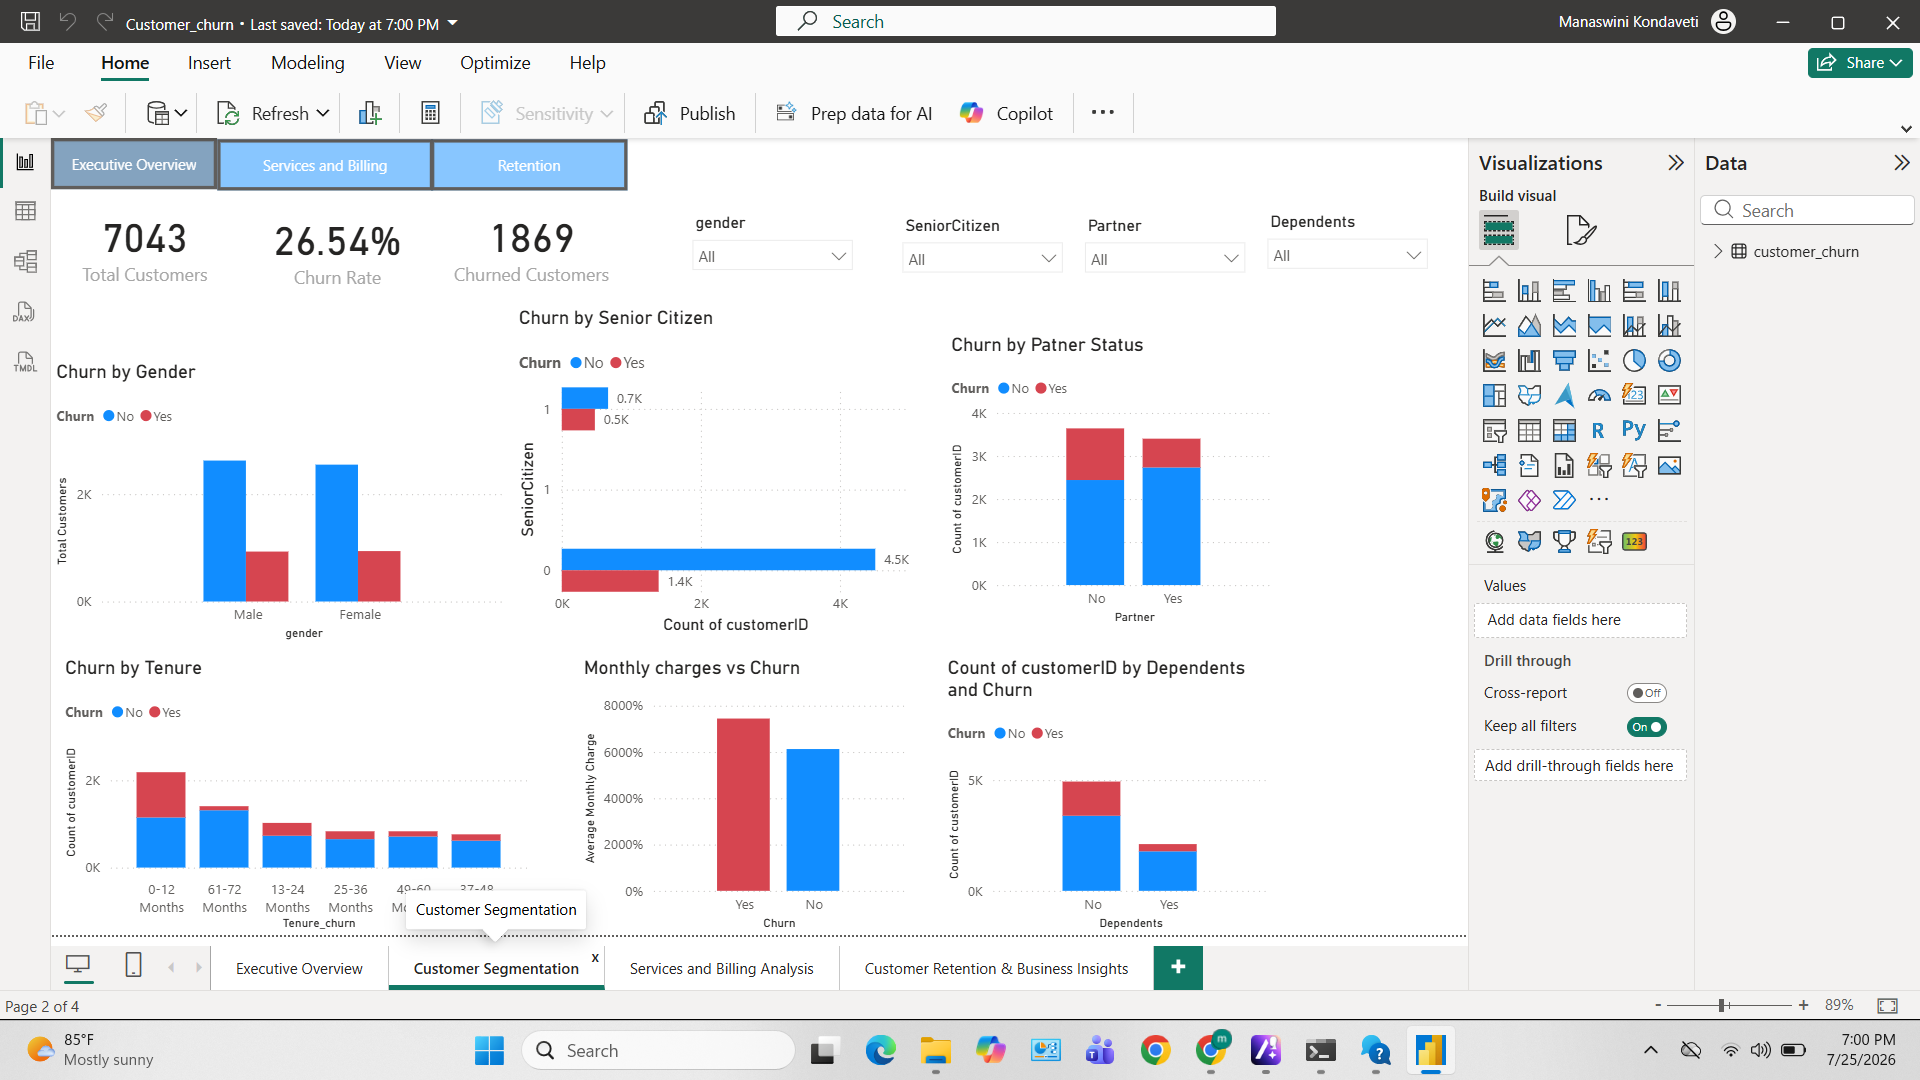

The dashboard page shown, as its layout file describes it:
{"tool":"powerbi","page":{"name":"Customer Segmentation","canvas":[1280,720],"ordinal":1},"visuals":[{"type":"PBI_CV_7B952816_A48F_49B4_9E13_15E3BB2C0337","fields":{"Values":["customer_churn.Total Customers"]},"box":[0,63.8,170,76.2],"z":0},{"type":"PBI_CV_7B952816_A48F_49B4_9E13_15E3BB2C0337","fields":{"Values":["customer_churn.Churn Rate"]},"box":[170,65,177.5,76.2],"z":1000},{"type":"clusteredColumnChart","title":"Churn by Gender","fields":{"Category":["customer_churn.gender"],"Series":["customer_churn.Churn"],"Y":["customer_churn.Total Customers"]},"box":[0,201.2,416.2,257.5],"z":2000},{"type":"PBI_CV_7B952816_A48F_49B4_9E13_15E3BB2C0337","fields":{"Values":["customer_churn.Churned Customers"]},"box":[347.5,63.8,173.8,76.2],"z":3000},{"type":"clusteredBarChart","title":"Churn by Senior Citizen","fields":{"Category":["customer_churn.SeniorCitizen"],"Series":["customer_churn.Churn"],"Y":["CountNonNull(customer_churn.customerID)"]},"box":[417.5,152.5,370,300],"z":4000},{"type":"columnChart","title":"Churn by Patner Status","fields":{"Category":["customer_churn.Partner"],"Series":["customer_churn.Churn"],"Y":["CountNonNull(customer_churn.customerID)"]},"box":[808.8,176.2,300,267.5],"z":5000},{"type":"columnChart","title":"Churn by Tenure","fields":{"Category":["customer_churn.Tenure_churn"],"Series":["customer_churn.Churn"],"Y":["CountNonNull(customer_churn.customerID)"]},"box":[7.5,468.8,427.5,251.2],"z":6000},{"type":"columnChart","title":"Monthly charges vs Churn","fields":{"Category":["customer_churn.Churn"],"Y":["customer_churn.Average Monthly Charge"]},"box":[476.2,468.8,300,251.2],"z":7000},{"type":"columnChart","fields":{"Category":["customer_churn.Dependents"],"Series":["customer_churn.Churn"],"Y":["CountNonNull(customer_churn.customerID)"]},"box":[805,468.8,300,251.2],"z":8000},{"type":"slicer","fields":{"Values":["customer_churn.gender"]},"box":[568.8,63.8,165,72.5],"z":9000},{"type":"slicer","fields":{"Values":["customer_churn.SeniorCitizen"]},"box":[758.8,65,165,76.2],"z":10000},{"type":"slicer","fields":{"Values":["customer_churn.Partner"]},"box":[923.8,65,165,73.8],"z":11000},{"type":"slicer","fields":{"Values":["customer_churn.Dependents"]},"box":[1088.8,62.5,165,73.8],"z":12000},{"type":"actionButton","title":"Executive Overview","box":[0,0,150,46.2],"z":13000},{"type":"actionButton","title":"Service and Bill","box":[343.8,1.2,177.5,46.2],"z":14000},{"type":"actionButton","title":"Service and Bill","box":[150,1.2,195,46.2],"z":15000}]}

Visuals, with their boxes on the page's 1280x720 design canvas (x1, y1, x2, y2). These are canvas units, not pixel positions in the 1920x1080 screenshot, which may show the page scaled, cropped or inside an application window:
PBI_CV_7B952816_A48F_49B4_9E13_15E3BB2C0337 - customer_churn.Total Customers: <box>0,64,170,140</box>
PBI_CV_7B952816_A48F_49B4_9E13_15E3BB2C0337 - customer_churn.Churn Rate: <box>170,65,348,141</box>
"Churn by Gender" clusteredColumnChart: <box>0,201,416,459</box>
PBI_CV_7B952816_A48F_49B4_9E13_15E3BB2C0337 - customer_churn.Churned Customers: <box>348,64,521,140</box>
"Churn by Senior Citizen" clusteredBarChart: <box>418,152,788,452</box>
"Churn by Patner Status" columnChart: <box>809,176,1109,444</box>
"Churn by Tenure" columnChart: <box>8,469,435,720</box>
"Monthly charges vs Churn" columnChart: <box>476,469,776,720</box>
columnChart - customer_churn.Dependents x customer_churn.Churn: <box>805,469,1105,720</box>
slicer - customer_churn.gender: <box>569,64,734,136</box>
slicer - customer_churn.SeniorCitizen: <box>759,65,924,141</box>
slicer - customer_churn.Partner: <box>924,65,1089,139</box>
slicer - customer_churn.Dependents: <box>1089,62,1254,136</box>
"Executive Overview" actionButton: <box>0,0,150,46</box>
"Service and Bill" actionButton: <box>344,1,521,47</box>
"Service and Bill" actionButton: <box>150,1,345,47</box>
